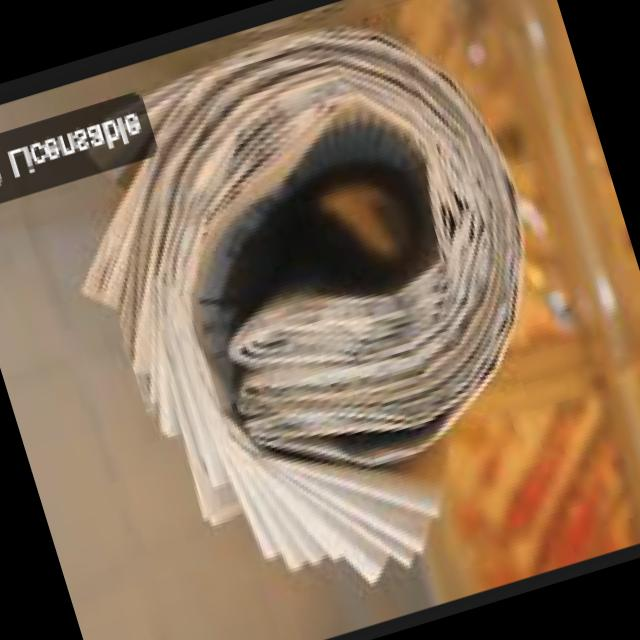KertasBekas: (25, 0, 614, 640)
